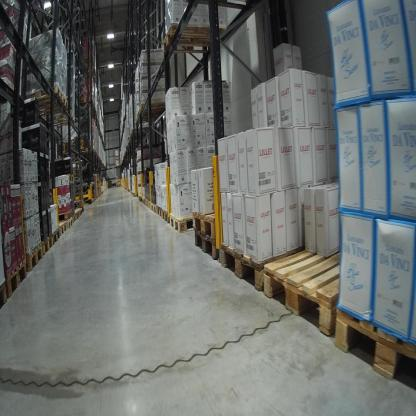pallet: (263, 232, 346, 350), (334, 302, 415, 389), (219, 234, 313, 299), (160, 24, 228, 58), (188, 209, 221, 242), (193, 224, 223, 259), (6, 258, 30, 300), (31, 97, 68, 121), (28, 85, 64, 107), (170, 212, 198, 236), (139, 98, 172, 115), (27, 247, 44, 275), (50, 111, 77, 127), (41, 235, 56, 258), (1, 280, 11, 308), (56, 208, 73, 222), (54, 221, 66, 236), (51, 229, 60, 246), (64, 216, 74, 230), (72, 208, 83, 218), (163, 208, 169, 224), (157, 203, 163, 219), (72, 211, 80, 221), (152, 202, 158, 214), (70, 214, 76, 223)
